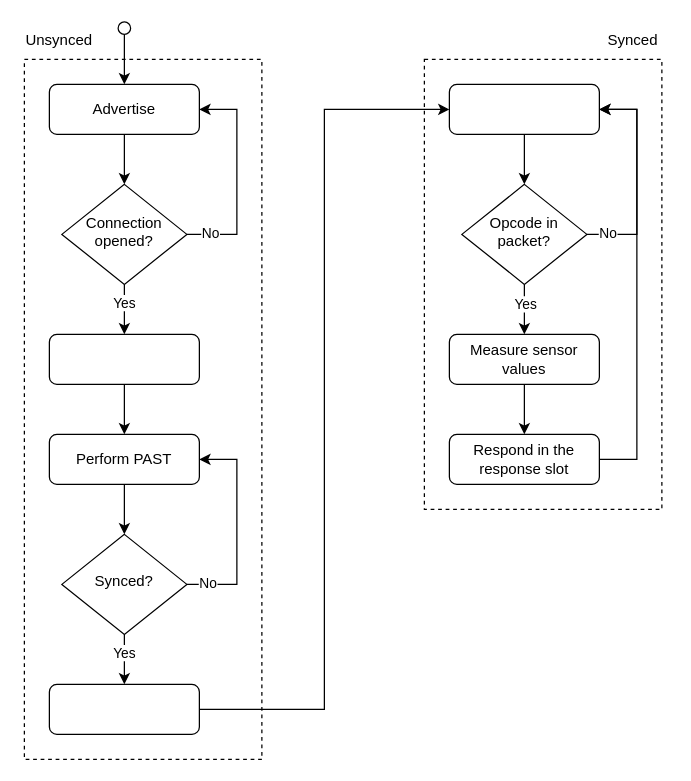
Some shapes in this 691 by 781 pixel diagram are drawn without their labels. Each missing label, with the box of its shape:
Close the connection: (48, 683, 199, 734)
Receive PAwR-address: (48, 333, 199, 384)
Scan for sync packets: (448, 83, 599, 134)
